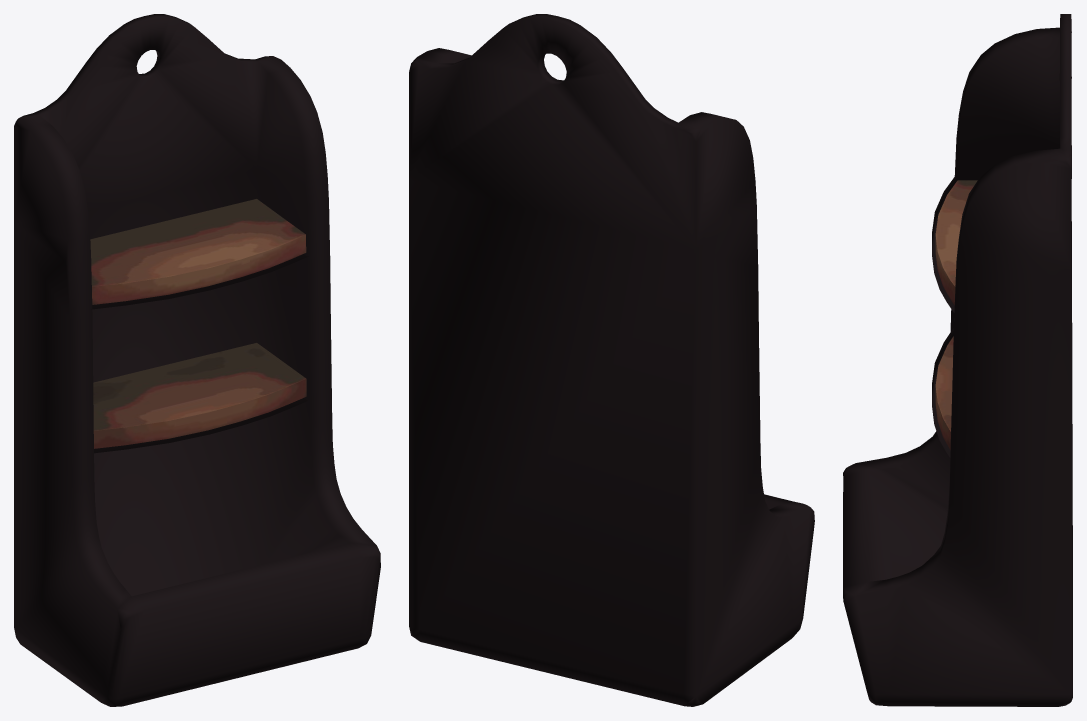
File: SM_Int_Shelves.fbx
3 views of the same model, side by side, from view 1: azimuth 30°, elevation 25°; view 2: azimuth 150°, elevation 25°; view 3: azimuth 270°, elevation 25° (orthographic). The views are drawn at different scales.
Visible parts, largest first — view 1: SM_Int_Shelves; view 2: SM_Int_Shelves; view 3: SM_Int_Shelves.
Boxes of the visible parts, left/top/right/bottom form: SM_Int_Shelves: left=14, top=14, right=380, bottom=706; SM_Int_Shelves: left=409, top=14, right=814, bottom=706; SM_Int_Shelves: left=843, top=14, right=1072, bottom=706.
Size of what is drawn, in the model's own units: 0.5268 by 1.14 by 0.382.
